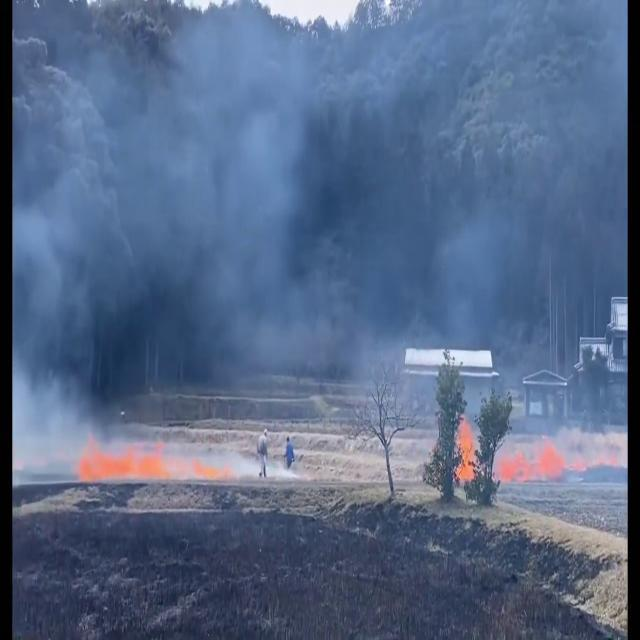Fire: (56, 430, 200, 500), (450, 406, 482, 486)
Smoke: (21, 0, 620, 455)
